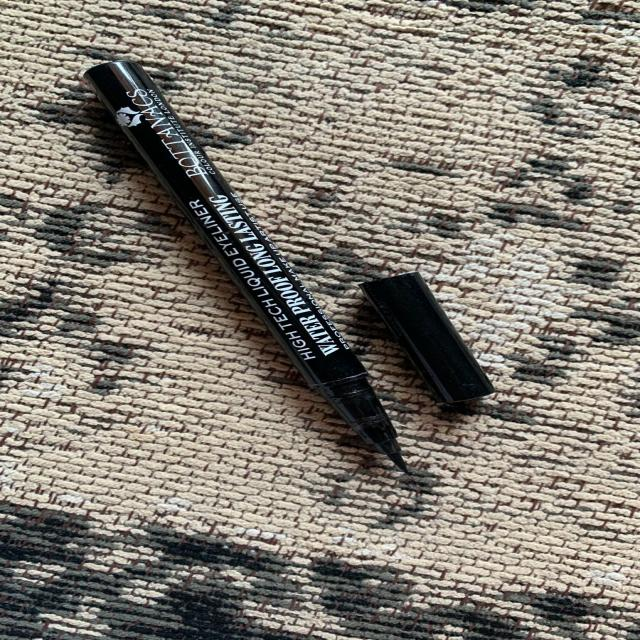eye liner: (72, 51, 528, 516)
